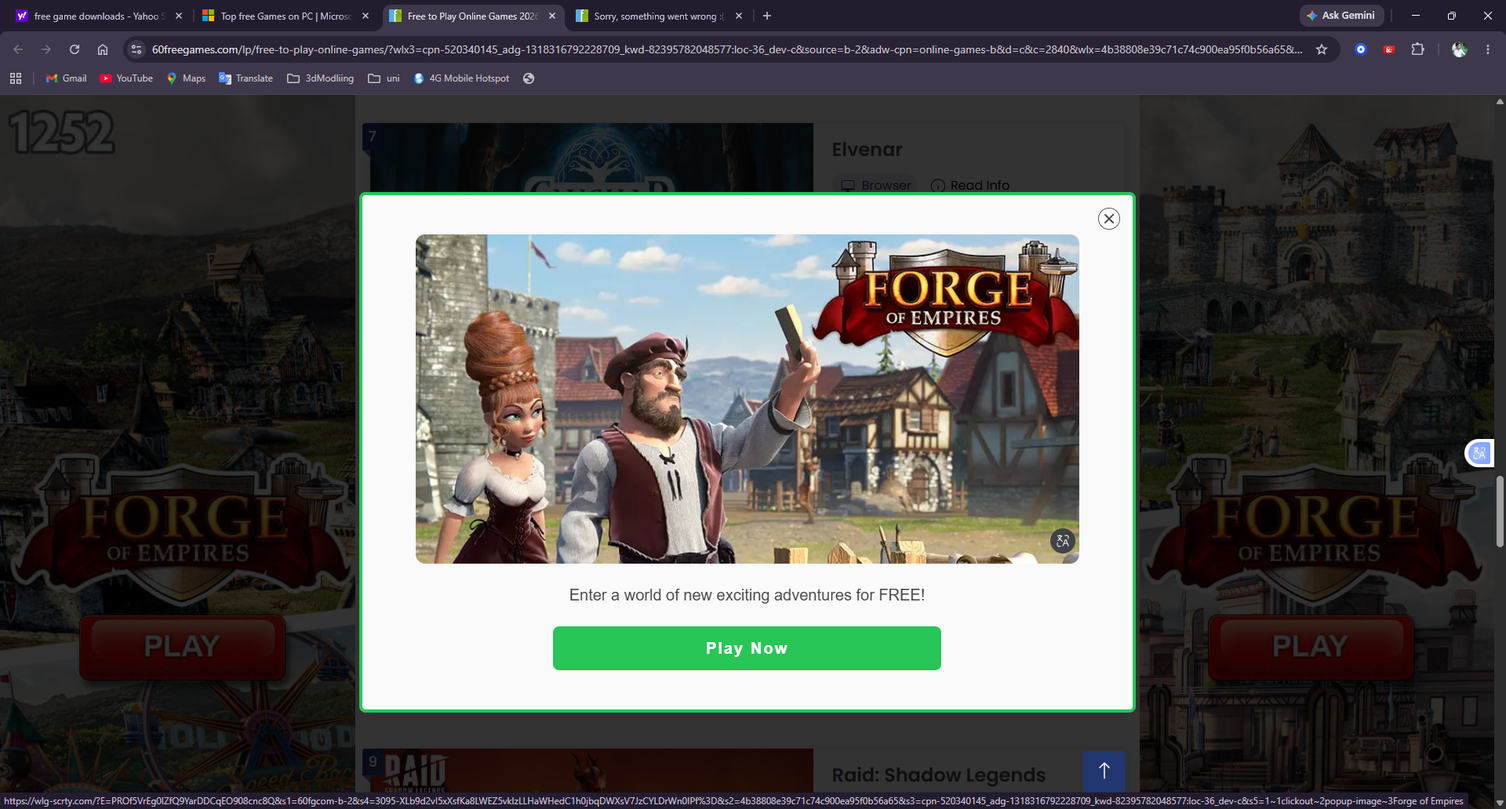fake_button: (540, 614, 969, 691)
